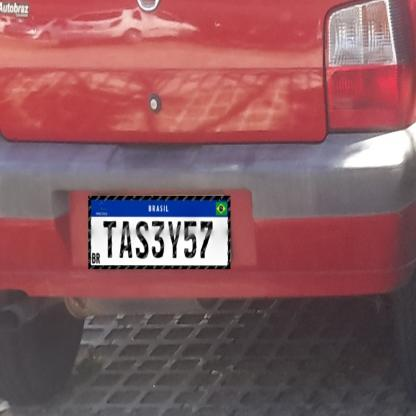PlacaM: (89, 196, 231, 269)
